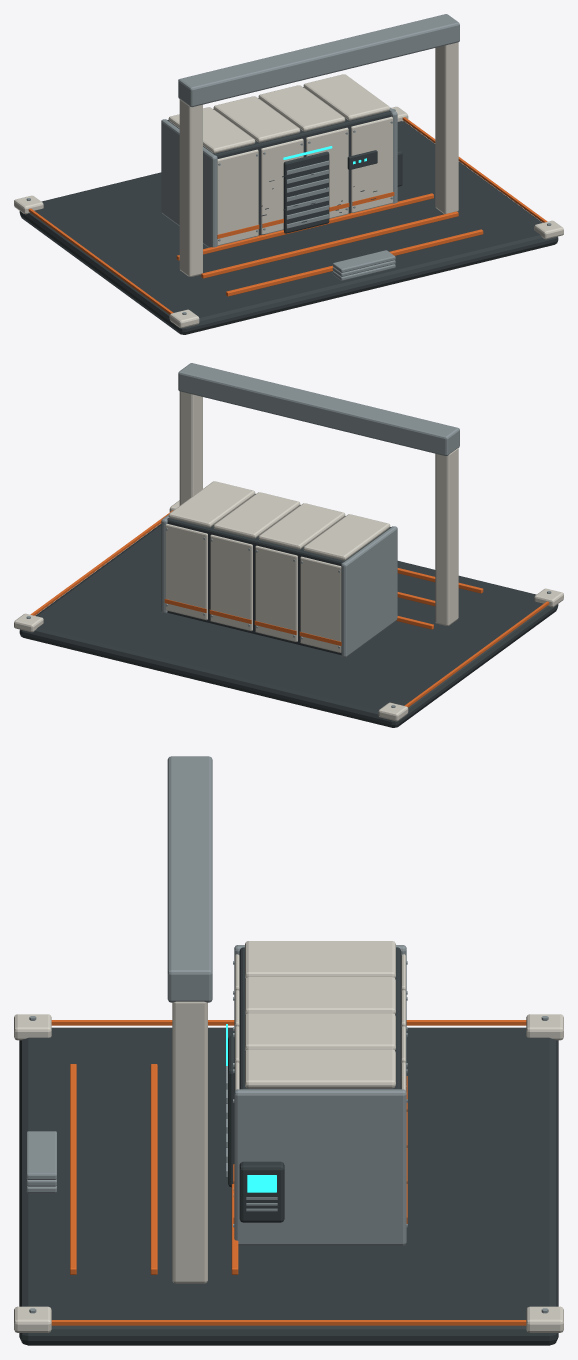
Rendered from SM_ShipRepairBay_Body.fbx.
3 views of the same model, one above another, from view 1: azimuth 30°, elevation 25°; view 2: azimuth 150°, elevation 25°; view 3: azimuth 270°, elevation 25° (orthographic). The views are drawn at different scales.
Parts seen in each view (by area): view 1: SM_ShipRepairBay_Body; view 2: SM_ShipRepairBay_Body; view 3: SM_ShipRepairBay_Body.
Boxes of the visible parts, <box> form: SM_ShipRepairBay_Body: <box>14,14,563,334</box>; SM_ShipRepairBay_Body: <box>14,363,563,727</box>; SM_ShipRepairBay_Body: <box>14,756,563,1345</box>.
Size of the model in its own units: 812 by 612 by 410.
